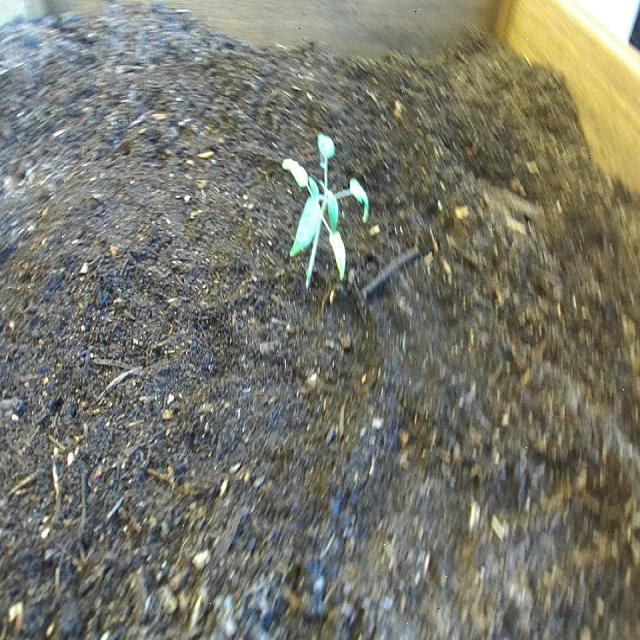Healthy: (279, 116, 372, 306)
